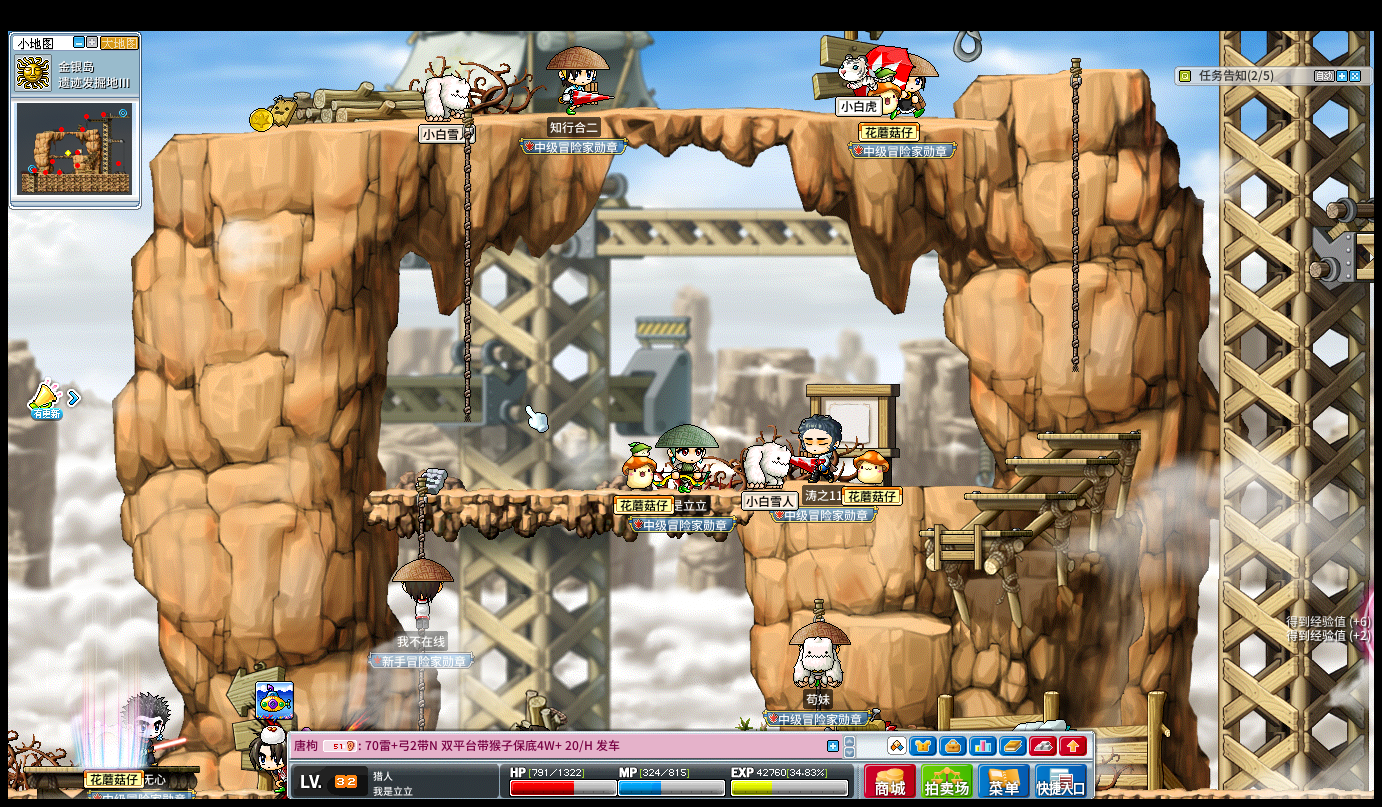floor: (165, 103, 1018, 136), (357, 488, 766, 499), (845, 613, 951, 635), (975, 64, 1148, 77), (888, 481, 1000, 492), (1035, 429, 1141, 440), (965, 489, 1078, 499), (1000, 456, 1116, 464), (918, 528, 1030, 536), (967, 492, 1077, 499)
rope: (1068, 53, 1082, 387), (461, 107, 472, 423), (412, 479, 426, 559)
